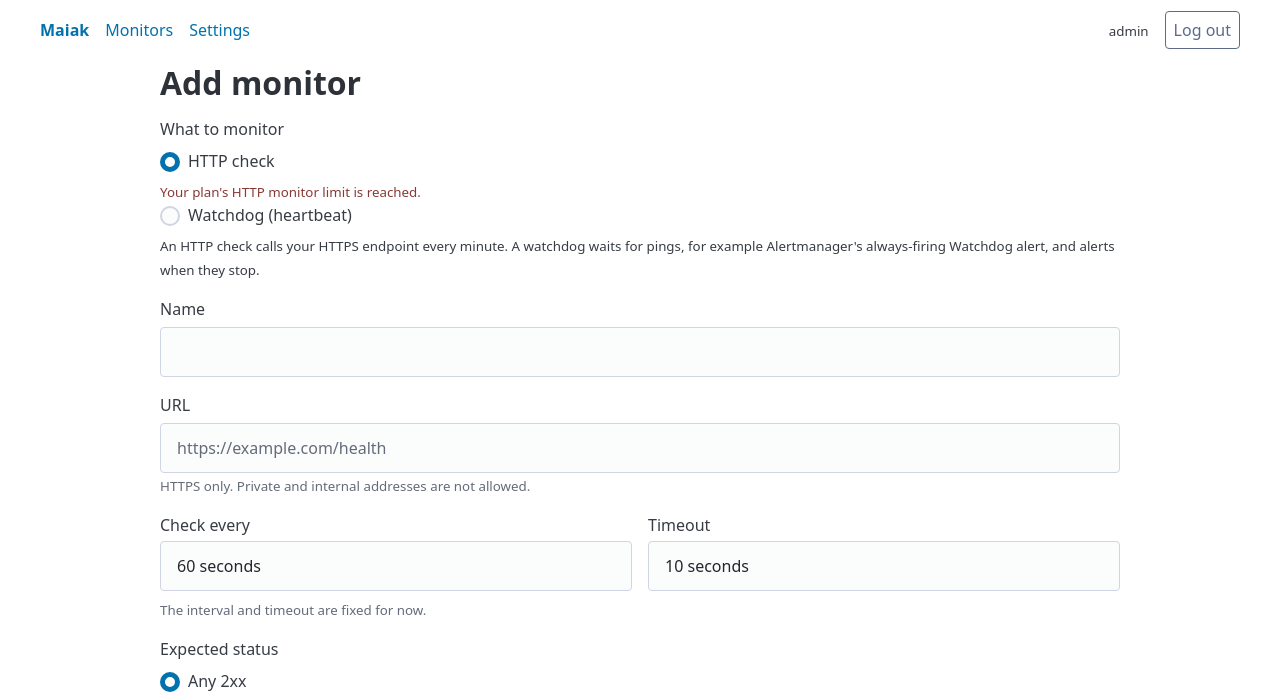
monitor form › explains a plan-limit refusal and refreshes the usage
Type "Website" into the field labelled "Name" at x=640, y=352, box x1=160 y1=327 x2=1120 y2=377
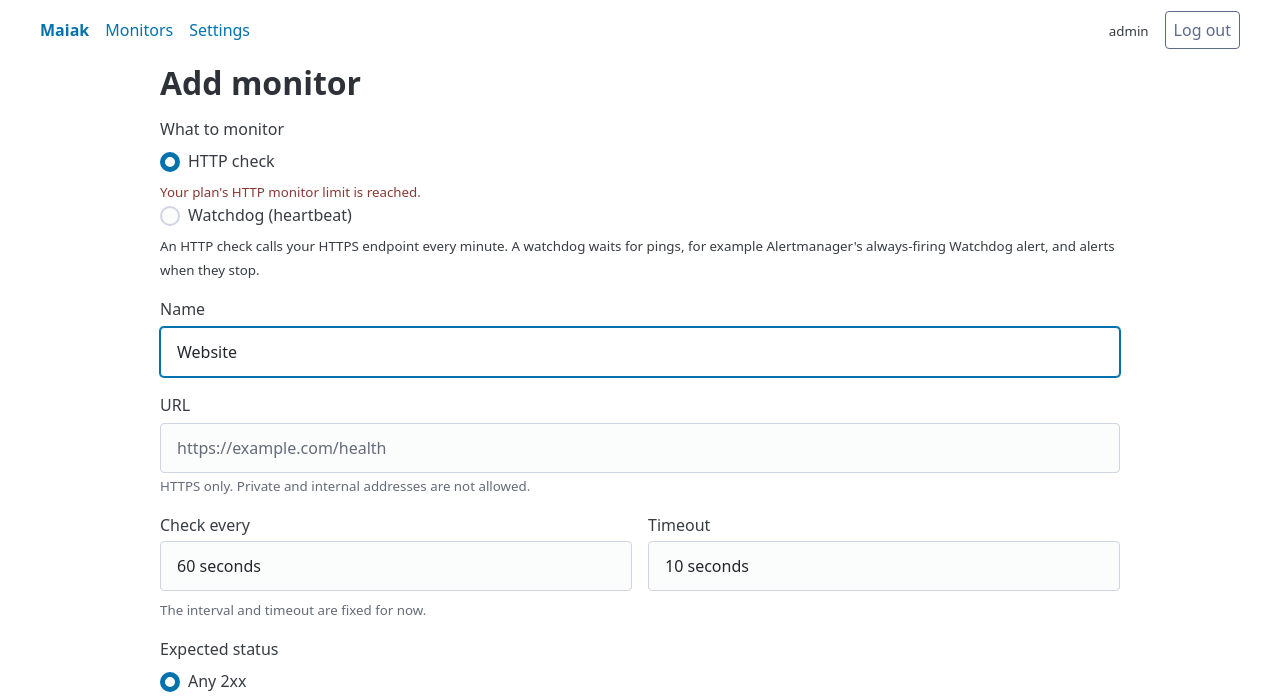
Type "https://example.com/" into the field labelled "URL" at x=640, y=448, box x1=160 y1=423 x2=1120 y2=473
(page scrolled)
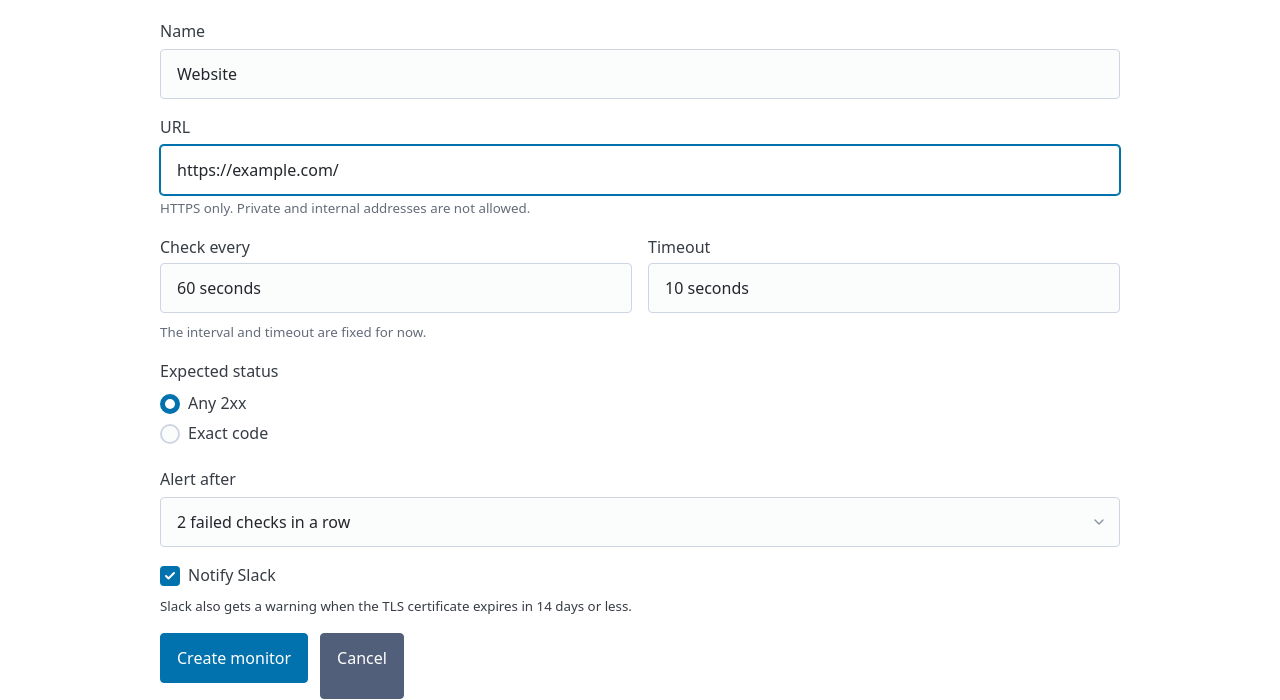
Click the button "Create monitor" at x=234, y=658, box x1=160 y1=633 x2=308 y2=683
(page scrolled)
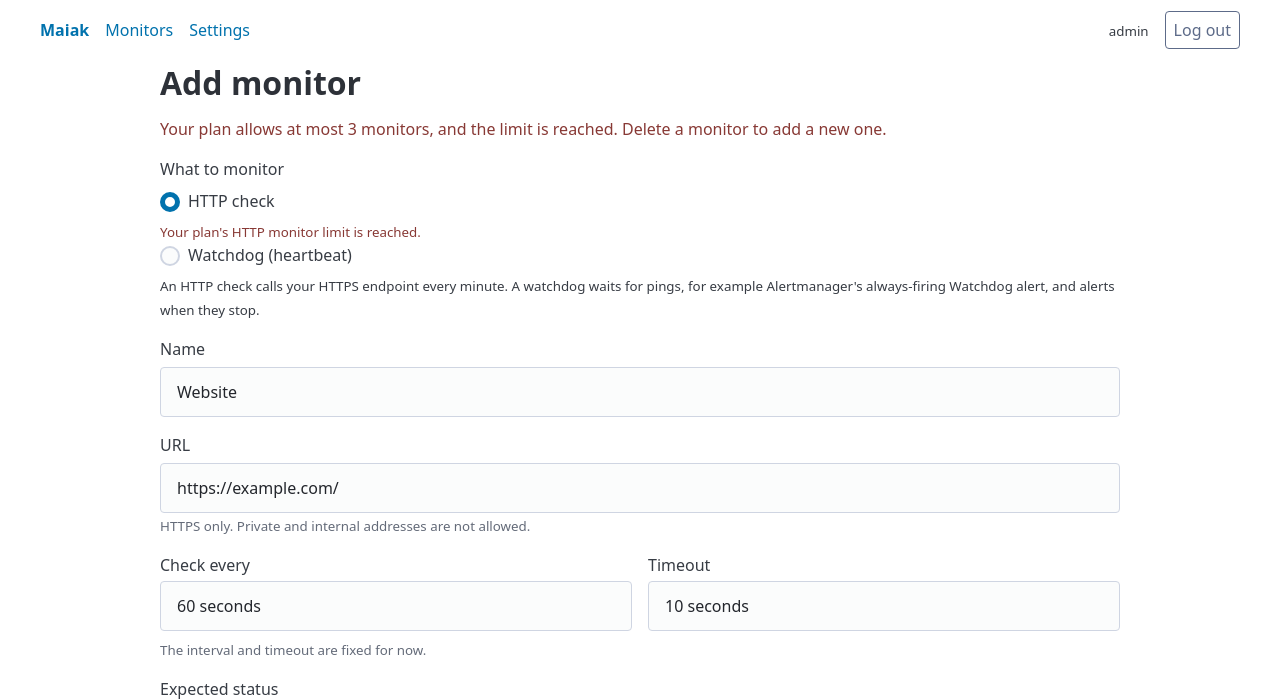
Check: the text "Your plan's HTTP monitor limit is reached." is shown, box x1=160 y1=223 x2=421 y2=241
Check: the message shows "Your plan allows at most 3 monitors, and the limit is reached. Delete a monitor to add a new one.", box x1=160 y1=118 x2=887 y2=140
